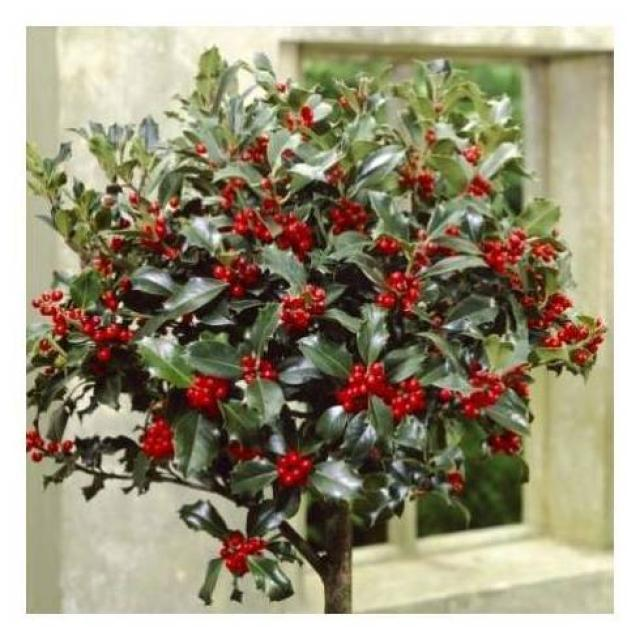acebo: (26, 41, 609, 612)
